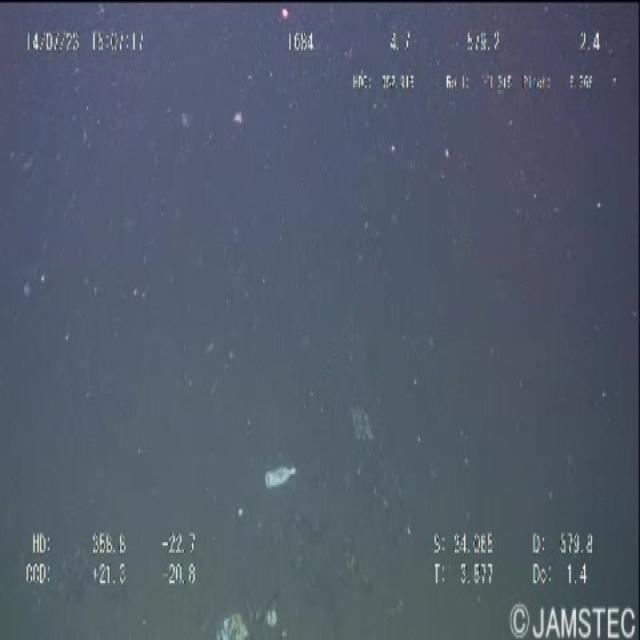Glass: (254, 442, 306, 514)
